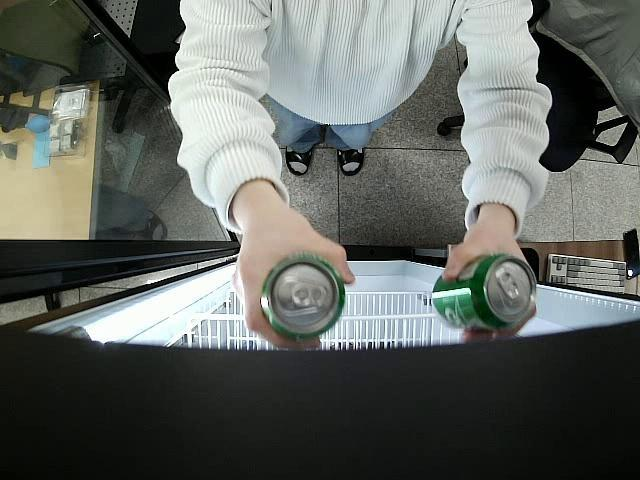12_chilsungCider: (430, 254, 538, 331), (262, 254, 346, 341)
